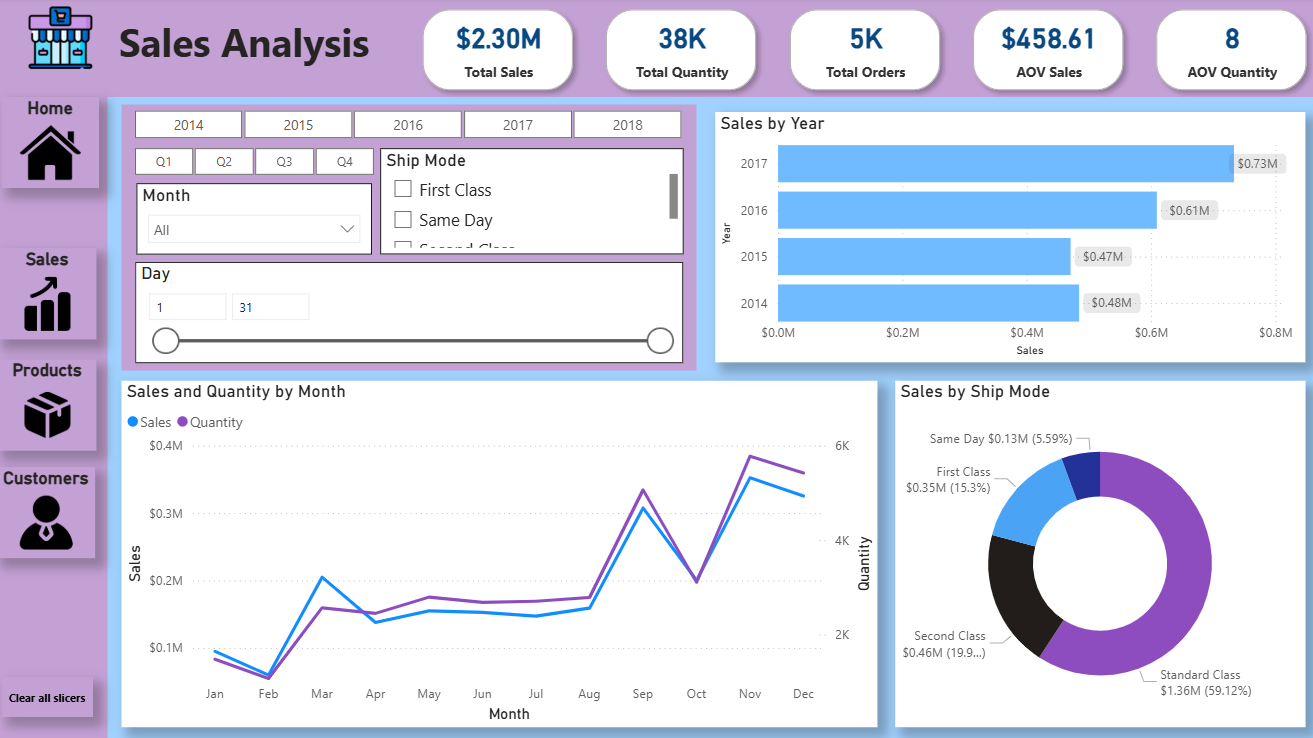

The dashboard page shown, as its layout file describes it:
{"tool":"powerbi","page":{"name":"Sales Analysis","canvas":[1280,720],"ordinal":1},"visuals":[{"type":"shape","box":[123.1,103.8,555,257],"z":0},{"type":"shape","box":[0,0,1280,96.5],"z":1000},{"type":"shape","box":[0,0,109.8,720.2],"z":2000},{"type":"image","title":"Sales","box":[3.1,242.5,95.3,88.1],"z":3000},{"type":"image","title":"Products","box":[3.6,350.1,95.3,88.1],"z":4000},{"type":"image","title":"Customers","box":[2.4,453.8,95.3,88.1],"z":5000},{"type":"actionButton","box":[7.2,656.3,88.1,38.6],"z":6000},{"type":"image","title":"Home","box":[6.8,96.3,94.1,88.1],"z":7000},{"type":"textbox","box":[109.8,13.3,263,63.9],"z":8000},{"type":"image","box":[27.7,3.6,73.6,71.2],"z":9000},{"type":"cardVisual","fields":{"Data":["DAXMeasures.Total Sales","DAXMeasures.Total Quantity","DAXMeasures.Total Orders","DAXMeasures.AOV Sales","DAXMeasures.AOV Quantity"]},"box":[401.7,0,878.3,102.5],"z":10000},{"type":"lineChart","fields":{"Category":["DimDate.Month Name"],"Y":["DAXMeasures.Total Sales"],"Y2":["DAXMeasures.Total Quantity"]},"box":[123.1,370.4,729.9,334.2],"z":11000},{"type":"clusteredBarChart","fields":{"Y":["DAXMeasures.Total Sales"],"Category":["DimDate.Year"]},"box":[696.1,111,569.4,241.3],"z":12000},{"type":"donutChart","fields":{"Category":["FactOrders.Ship Mode"],"Y":["DAXMeasures.Total Sales"]},"box":[869.8,370.6,395.7,334.2],"z":13000},{"type":"slicer","fields":{"Values":["DimDate.Year"]},"box":[109.8,102.5,577.9,35],"z":14000},{"type":"slicer","title":"Month","fields":{"Values":["DimDate.Month Name"]},"box":[137.5,179.8,226.8,68.8],"z":15000},{"type":"slicer","fields":{"Values":["DimDate.Quarter"]},"box":[109.8,138.7,281.1,37.4],"z":16000},{"type":"slicer","title":"Day","fields":{"Values":["DimDate.Day"]},"box":[136.3,255.8,528.4,97.7],"z":17000},{"type":"slicer","title":"Ship Mode","fields":{"Values":["FactOrders.Ship Mode"]},"box":[372.8,146,293.2,102.5],"z":18000}]}

Visuals, with their boxes in screenshot pixels (x1, y1, x2, y2), scaled from the page's 1280x720 canvas onto the 1313x738 screenshot:
shape: [left=126, top=106, right=696, bottom=370]
shape: [left=0, top=0, right=1312, bottom=99]
shape: [left=0, top=0, right=113, bottom=737]
"Sales" image: [left=3, top=249, right=101, bottom=339]
"Products" image: [left=4, top=359, right=101, bottom=449]
"Customers" image: [left=2, top=465, right=100, bottom=555]
actionButton: [left=7, top=673, right=98, bottom=712]
"Home" image: [left=7, top=99, right=104, bottom=189]
textbox: [left=113, top=14, right=382, bottom=79]
image: [left=28, top=4, right=104, bottom=77]
cardVisual - DAXMeasures.Total Sales x DAXMeasures.Total Quantity: [left=412, top=0, right=1312, bottom=105]
lineChart - DimDate.Month Name x DAXMeasures.Total Sales: [left=126, top=380, right=875, bottom=722]
clusteredBarChart - DAXMeasures.Total Sales x DimDate.Year: [left=714, top=114, right=1298, bottom=361]
donutChart - FactOrders.Ship Mode x DAXMeasures.Total Sales: [left=892, top=380, right=1298, bottom=722]
slicer - DimDate.Year: [left=113, top=105, right=705, bottom=141]
"Month" slicer: [left=141, top=184, right=374, bottom=255]
slicer - DimDate.Quarter: [left=113, top=142, right=401, bottom=181]
"Day" slicer: [left=140, top=262, right=682, bottom=362]
"Ship Mode" slicer: [left=382, top=150, right=683, bottom=255]
